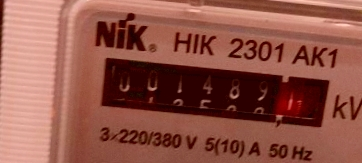0: (142, 65, 160, 91), (115, 67, 132, 93)
1: (171, 66, 187, 96), (282, 82, 296, 113)
4: (198, 70, 216, 97)
8: (223, 72, 243, 100)
9: (252, 76, 269, 102)
screen: (83, 44, 345, 141)
